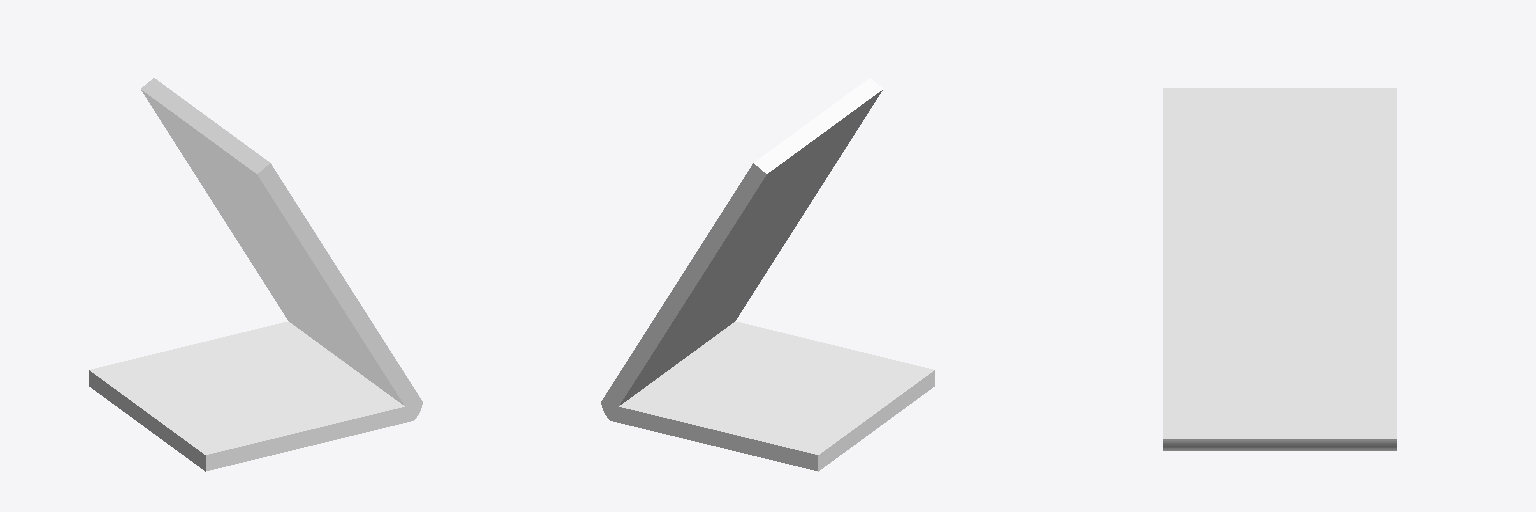
Rendered from 活動海報架_2.obj.
The picture shows the model from 3 angles: view 1: azimuth 30°, elevation 25°; view 2: azimuth 150°, elevation 25°; view 3: azimuth 270°, elevation 25°; orthographic projection.
Visible parts, largest first — view 1: group_0; view 2: group_0; view 3: group_0.001, group_0.
Part boxes in pixels (x1,y1,x2,y2): group_0: (89,78,422,471); group_0: (601,78,934,471); group_0.001: (1170,94,1389,433); group_0: (1163,88,1396,450).
Size of the model in its own units: 1.12 by 1.44 by 1.04.